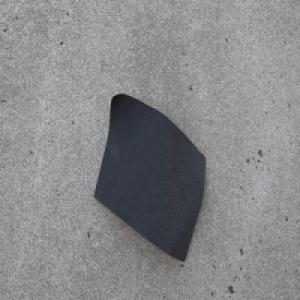PaintChip: (93, 92, 206, 263)
